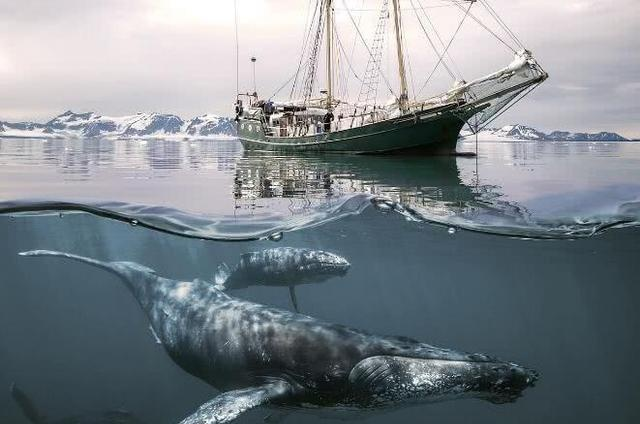fanchuan: (199, 2, 553, 167)
fish: (13, 240, 544, 420), (217, 244, 350, 304)
